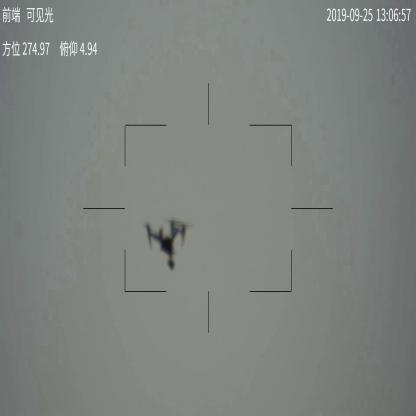uav: (143, 218, 189, 274)
